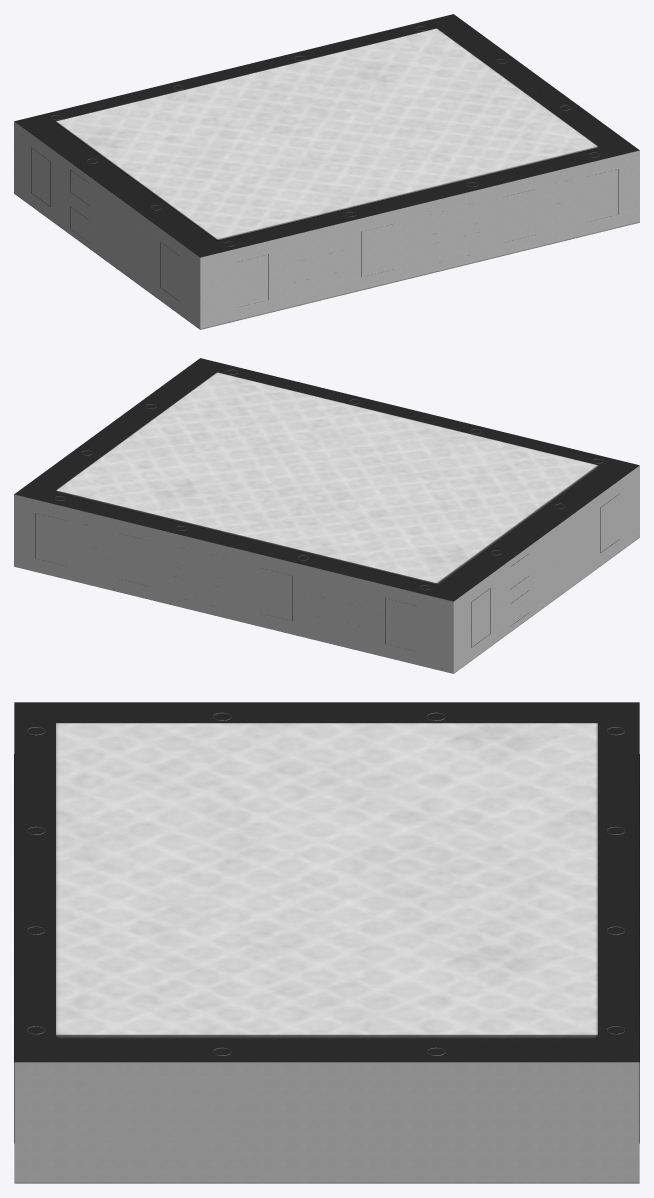
File: newgallery.glb
3 renders of one model, top to bottom at view 1: azimuth 30°, elevation 25°; view 2: azimuth 150°, elevation 25°; view 3: azimuth 270°, elevation 25°, orthographic. The views are drawn at different scales.
Parts seen in each view (by area): view 1: Art_Room_1; view 2: Art_Room_1; view 3: Art_Room_1.
Part boxes in pixels (x1,y1,x2,y2): Art_Room_1: (14, 14, 639, 329); Art_Room_1: (14, 358, 639, 673); Art_Room_1: (14, 702, 639, 1183).
Size of the model in its own units: 27.64 by 4.46 by 20.29.
1 material, 1 textured.
